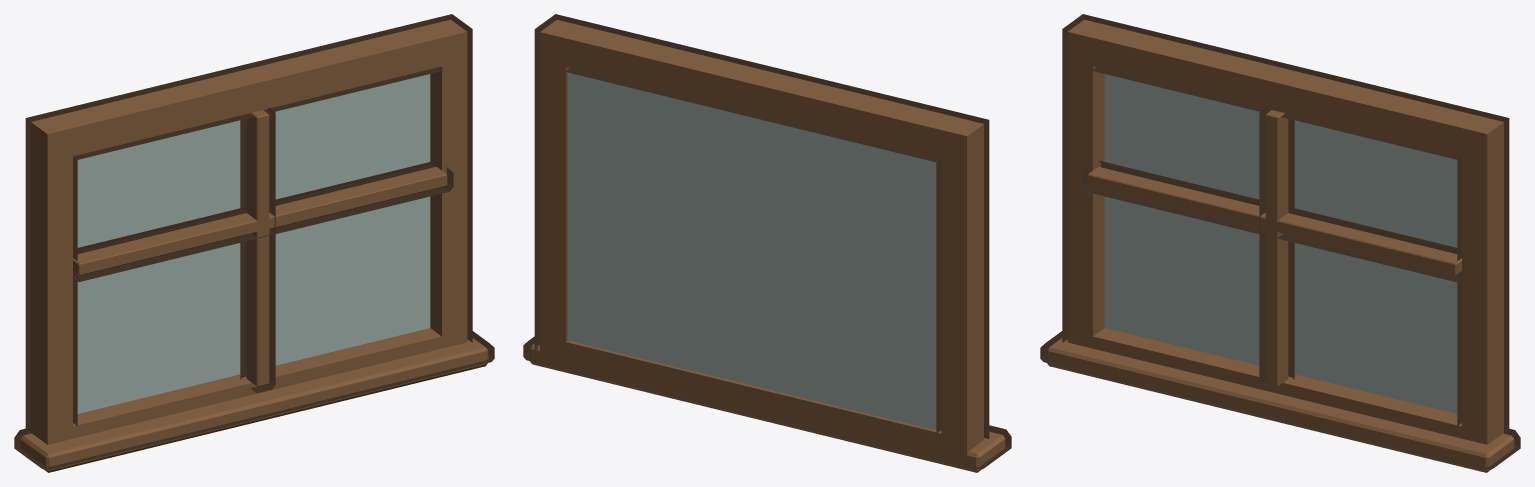
Rendered from library-window.glb.
3 views of the same model, side by side, from view 1: azimuth 30°, elevation 25°; view 2: azimuth 150°, elevation 25°; view 3: azimuth 330°, elevation 25° (orthographic).
Parts seen in each view (by area): view 1: library-window, library-window-outline; view 2: library-window, library-window-outline; view 3: library-window, library-window-outline.
Boxes of the visible parts, x1=… form: library-window: x1=20, y1=19, x2=488, y2=472; library-window-outline: x1=14, y1=14, x2=494, y2=469; library-window: x1=529, y1=20, x2=1005, y2=472; library-window-outline: x1=523, y1=14, x2=1011, y2=469; library-window: x1=1046, y1=19, x2=1514, y2=472; library-window-outline: x1=1040, y1=14, x2=1520, y2=469.
Size of the model in its own units: 1.43 by 1.01 by 0.1832.
